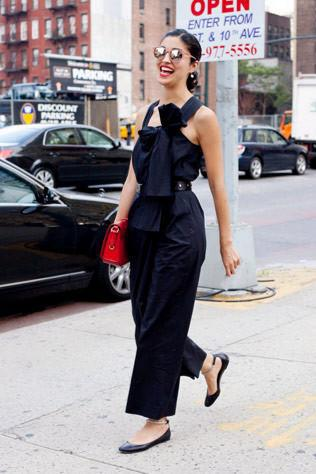Person: (96, 22, 241, 460)
